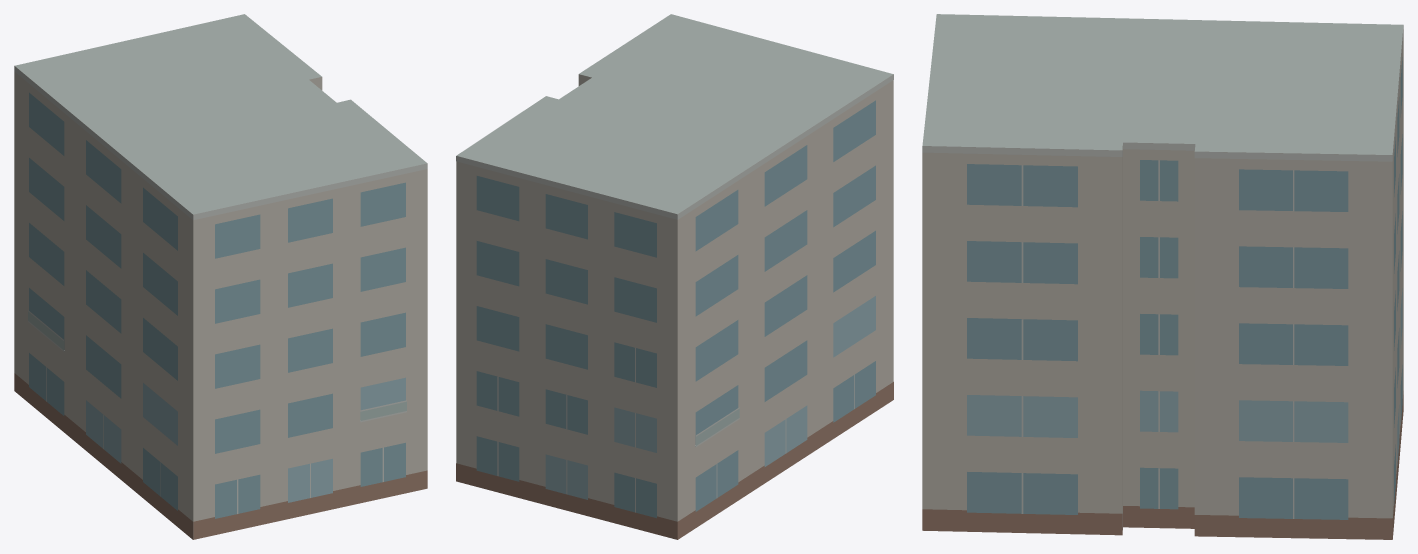
Rendered from survey-upis-32676397.glb.
The picture shows the model from 3 angles, left to right: view 1: azimuth 30°, elevation 25°; view 2: azimuth 150°, elevation 25°; view 3: azimuth 270°, elevation 25°; orthographic projection. The views are drawn at different scales.
Visible parts, largest first — view 1: survey-upis-32676397.tmp; view 2: survey-upis-32676397.tmp; view 3: survey-upis-32676397.tmp.
Part boxes in pixels (bbox=[...]): survey-upis-32676397.tmp: bbox=[14, 14, 427, 539]; survey-upis-32676397.tmp: bbox=[456, 14, 893, 539]; survey-upis-32676397.tmp: bbox=[922, 14, 1403, 539].
Size of the model in its own units: 11.1 by 14.1 by 15.99.
